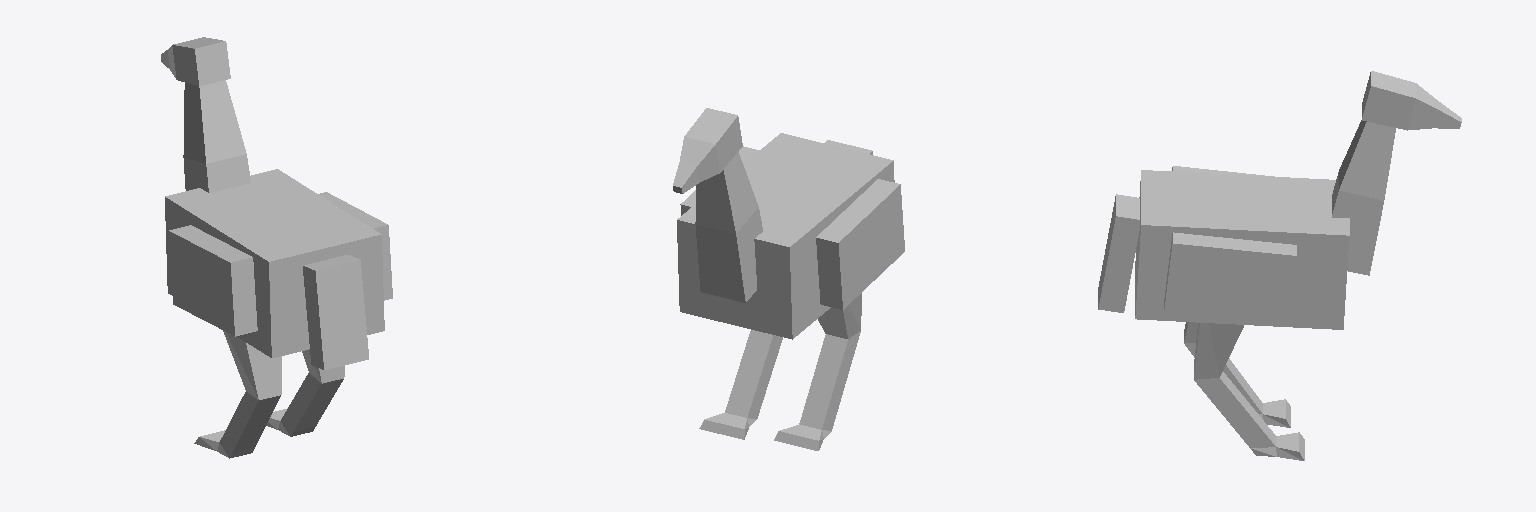
Rendered from Ostrich_000171.obj.
3 renders of one model, left to right at view 1: azimuth 30°, elevation 25°; view 2: azimuth 150°, elevation 25°; view 3: azimuth 270°, elevation 25°, orthographic.
Parts seen in each view (by area): view 1: Cube_Cube.001; view 2: Cube_Cube.001; view 3: Cube_Cube.001.
Part boxes in pixels (bbox=[...]): Cube_Cube.001: bbox=[161, 37, 392, 458]; Cube_Cube.001: bbox=[673, 108, 904, 450]; Cube_Cube.001: bbox=[1098, 71, 1461, 460].
Bounding box in the file's own units: 0.7 × 1.5 × 1.39.